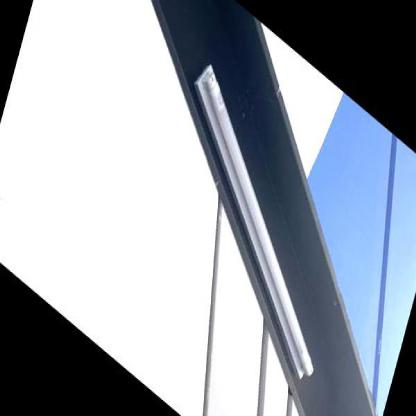light_off: (138, 31, 369, 412)
